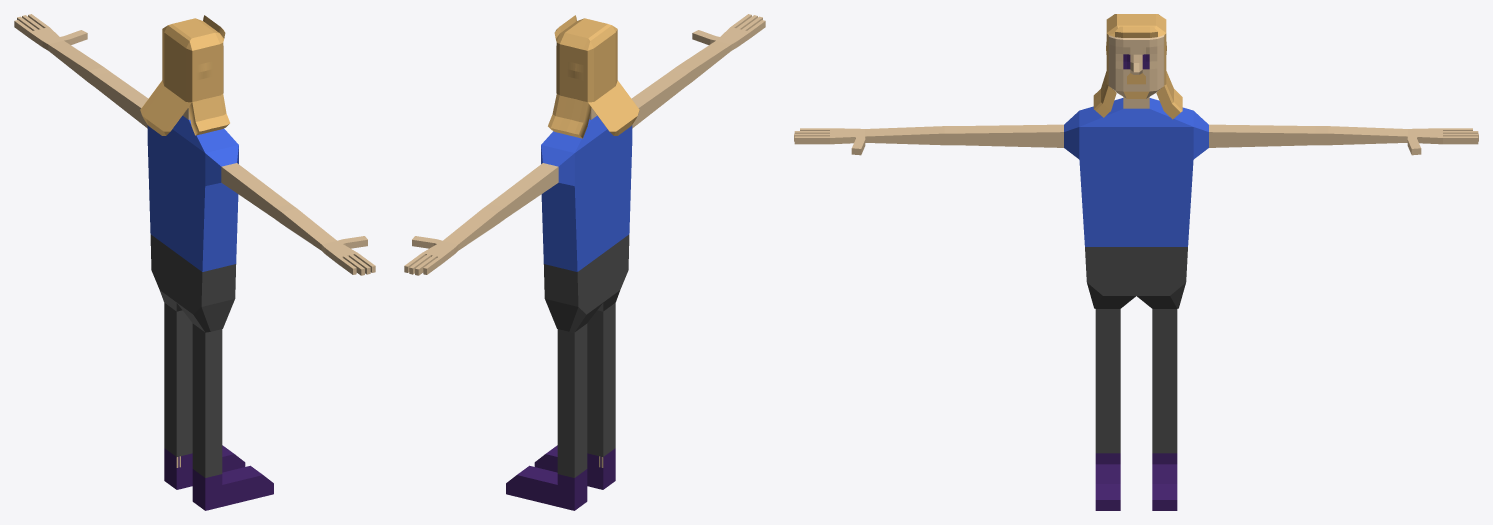
The model's file is BoyModelThree.fbx.
The picture shows the model from 3 angles, left to right: view 1: azimuth 30°, elevation 25°; view 2: azimuth 150°, elevation 25°; view 3: azimuth 270°, elevation 25°; orthographic projection.
Visible parts, largest first — view 1: Plane, Plane.001; view 2: Plane, Plane.001; view 3: Plane, Plane.001.
Part boxes in pixels (left/top/right/bottom): Plane: left=14, top=14, right=375, bottom=510; Plane.001: left=140, top=15, right=229, bottom=135; Plane: left=404, top=14, right=765, bottom=510; Plane.001: left=548, top=15, right=639, bottom=138; Plane: left=794, top=35, right=1478, bottom=510; Plane.001: left=1093, top=14, right=1182, bottom=119.
Bounding box in the file's own units: 213 × 950 × 1269.
